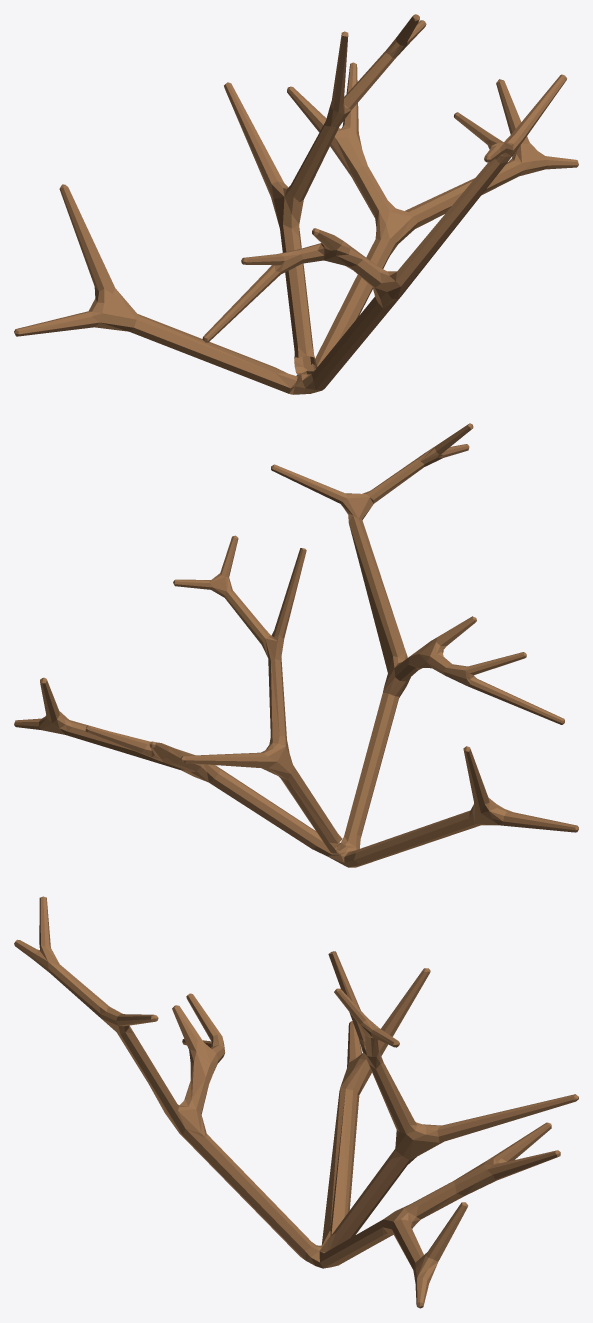
Rendered from Bush_3 Withered.fbx.
3 views of the same model, one above another, from view 1: azimuth 30°, elevation 25°; view 2: azimuth 150°, elevation 25°; view 3: azimuth 270°, elevation 25° (orthographic). The views are drawn at different scales.
Visible parts, largest first — view 1: Bush3Withered_mesh; view 2: Bush3Withered_mesh; view 3: Bush3Withered_mesh.
Boxes of the visible parts, box(x1,y1,x2,y2) form: Bush3Withered_mesh: box(14, 14, 578, 394); Bush3Withered_mesh: box(14, 423, 578, 867); Bush3Withered_mesh: box(14, 896, 578, 1308).
Bounding box in the file's own units: 180 × 110 × 152.
